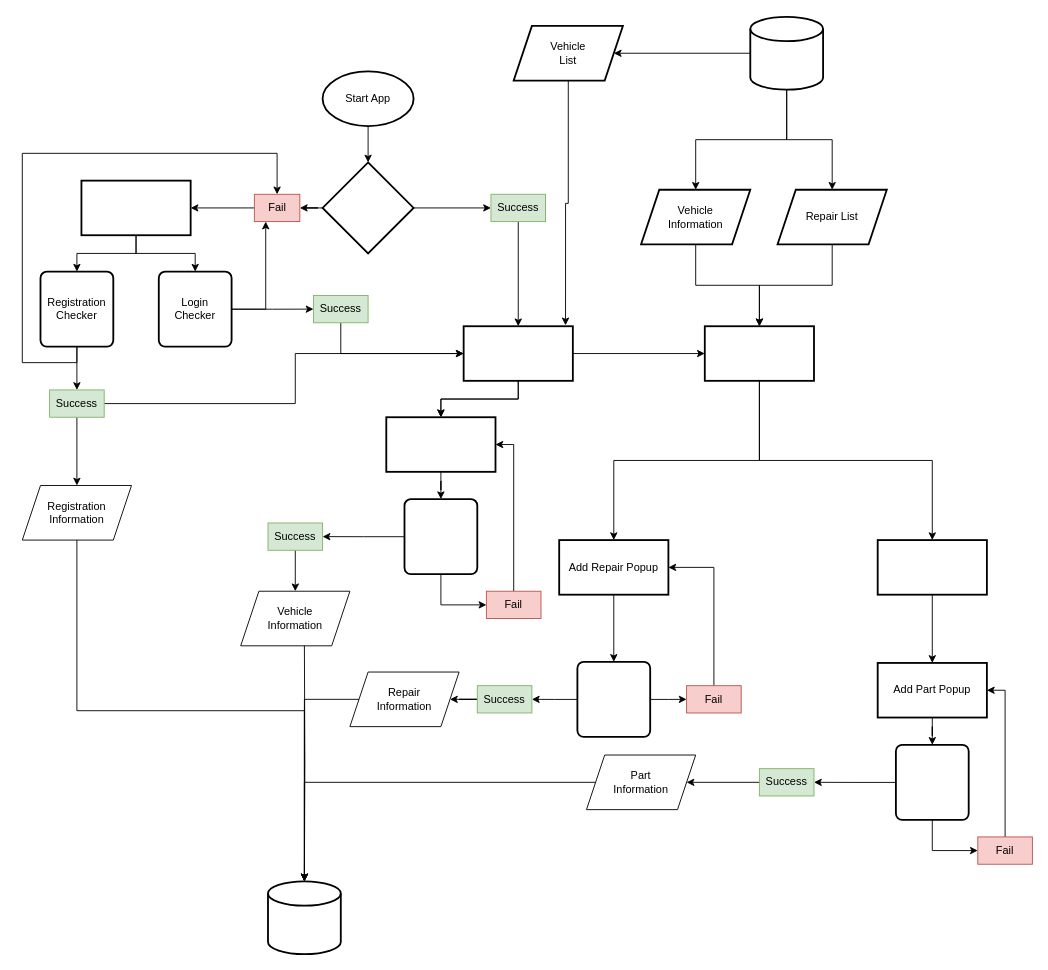
The diagram is 1048 pixels wide and 970 high, and some of its shapes have lost their labels. Each missing label, with the centre of its shape:
Add Vehicle Popup: the point at 440,444
Dashboard: the point at 517,353
From Firebase: the point at 786,52
Logged in: the point at 367,207
Login / Register: the point at 135,207
Part Information Checker: the point at 932,781
Repair: the point at 931,567
Repair Information Checker: the point at 613,698
To Firebase: the point at 304,917
Vehicle: the point at 758,353
Vehicle Information Checker: the point at 440,536
